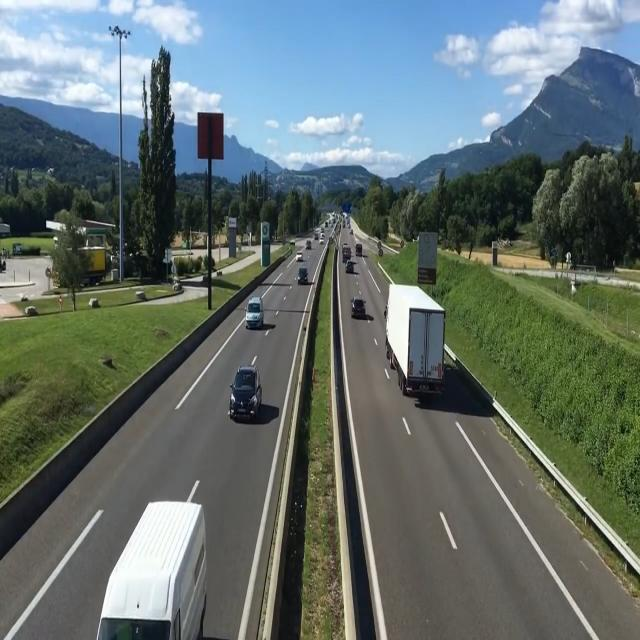car: (91, 503, 212, 637), (229, 362, 263, 426), (244, 295, 268, 334), (352, 292, 372, 324), (296, 263, 312, 290)
truck: (381, 275, 450, 422)
